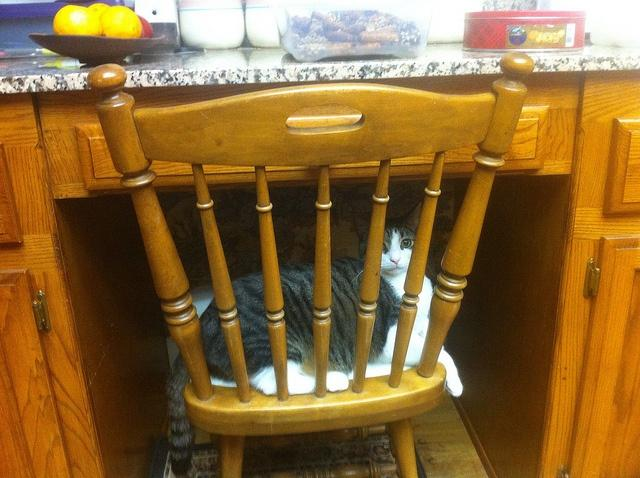Kursi: (88, 51, 534, 477)
